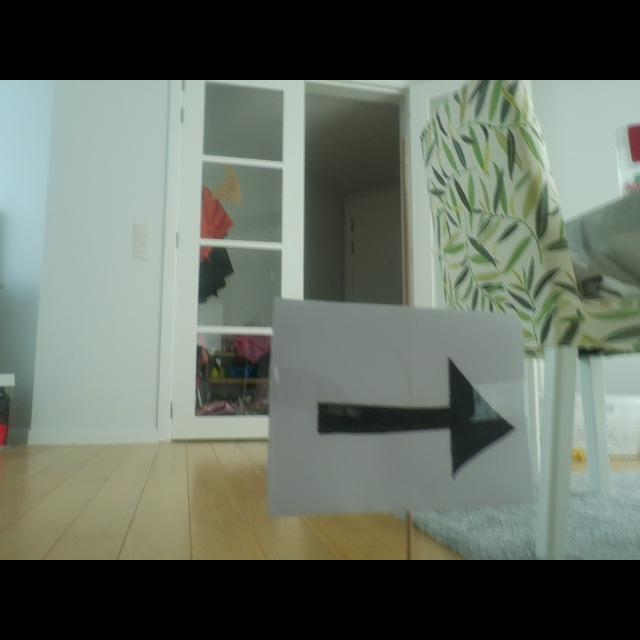jobbra_nyil: (317, 359, 513, 477)
